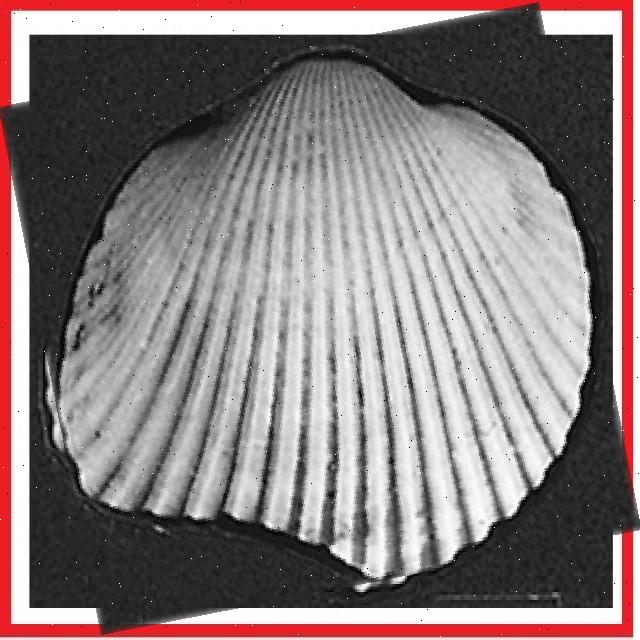Anadara_kagoshimensis: (21, 26, 618, 612)
